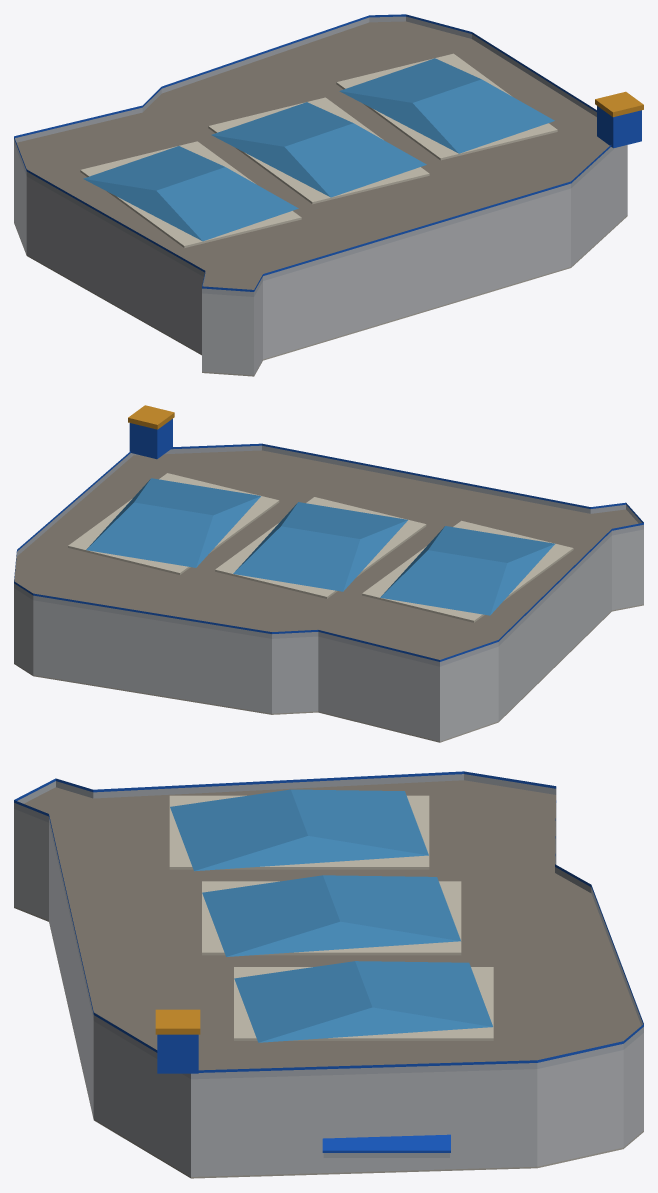
File: mal-ska-lod2.glb
3 renders of one model, top to bottom at view 1: azimuth 30°, elevation 25°; view 2: azimuth 150°, elevation 25°; view 3: azimuth 270°, elevation 25°, orthographic. The views are drawn at different scales.
Parts seen in each view (by area): view 1: mal-ska_LOD2; view 2: mal-ska_LOD2; view 3: mal-ska_LOD2.
Part boxes in pixels (<box>): mal-ska_LOD2: <box>14,14,643,376</box>; mal-ska_LOD2: <box>14,405,643,742</box>; mal-ska_LOD2: <box>14,771,643,1178</box>.
Size of the model in its own units: 150 by 34.3 by 130.
